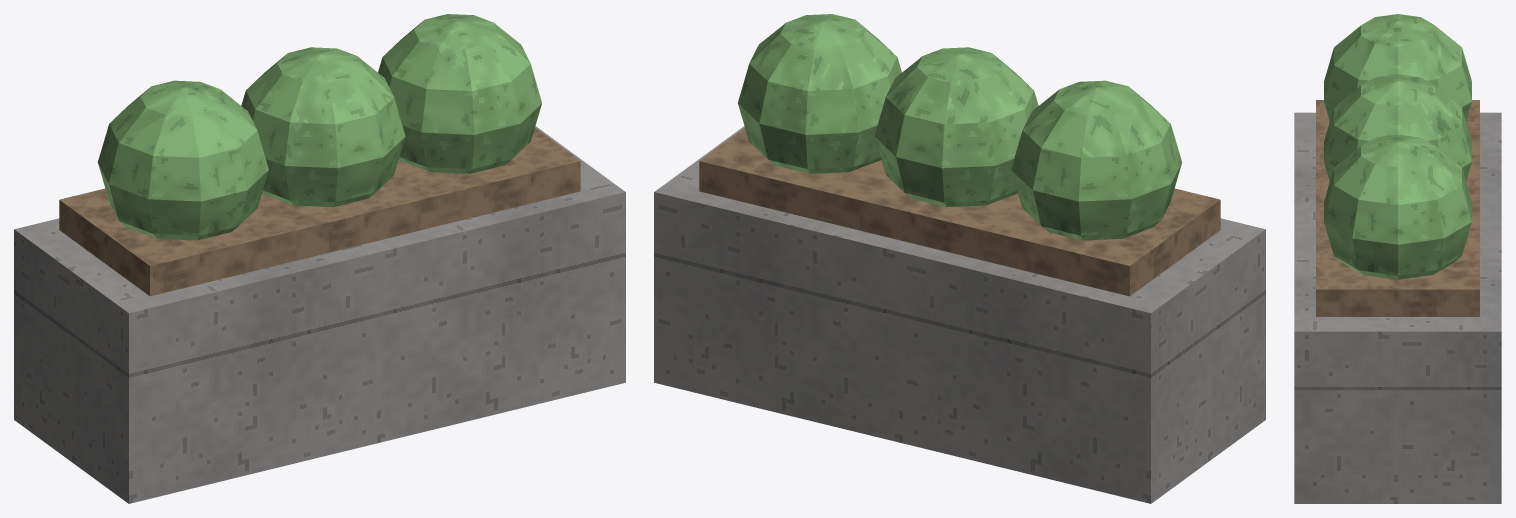
Rendered from planterBox.glb.
The picture shows the model from 3 angles, left to right: view 1: azimuth 30°, elevation 25°; view 2: azimuth 150°, elevation 25°; view 3: azimuth 270°, elevation 25°; orthographic projection. The views are drawn at different scales.
Visible parts, largest first — view 1: planterBox; view 2: planterBox; view 3: planterBox.
Boxes of the visible parts, bbox=[...] form: planterBox: bbox=[14, 14, 625, 503]; planterBox: bbox=[654, 14, 1265, 503]; planterBox: bbox=[1294, 14, 1501, 503].
Size of the model in its own units: 1.2 by 0.8 by 0.48.
Materials: 3 (3 with a texture image).
